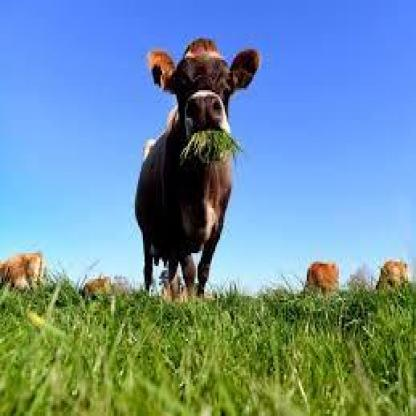cow: (134, 48, 261, 306), (1, 252, 44, 288)
